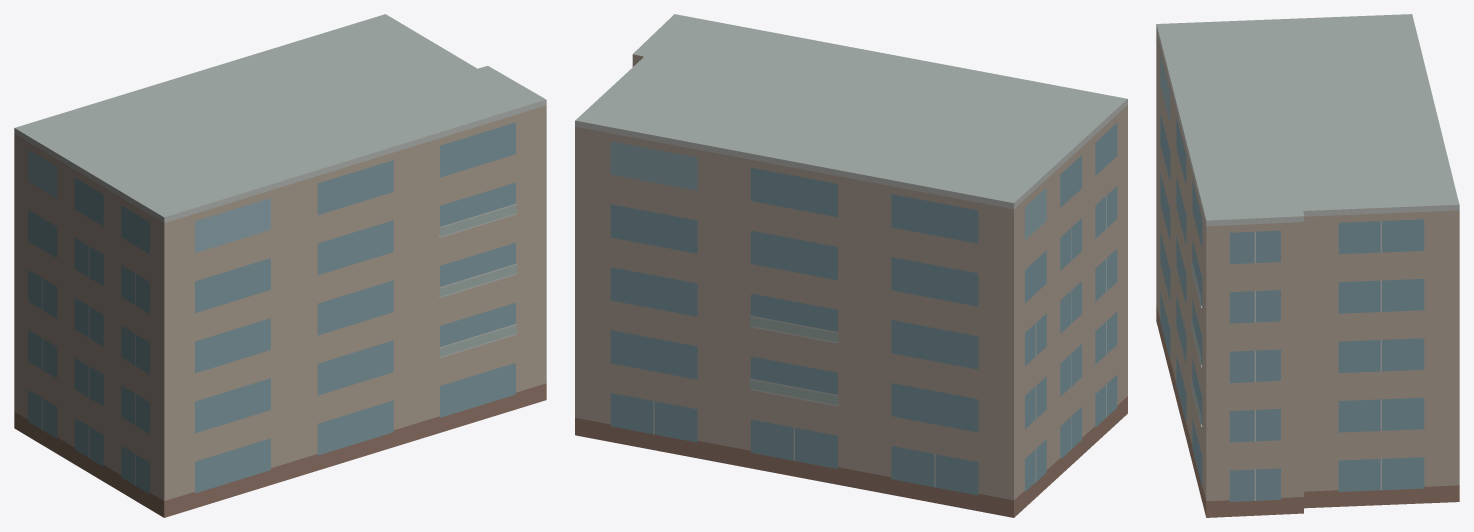
Rendered from survey-upis-33035902.glb.
The picture shows the model from 3 angles, left to right: view 1: azimuth 30°, elevation 25°; view 2: azimuth 150°, elevation 25°; view 3: azimuth 270°, elevation 25°; orthographic projection. The views are drawn at different scales.
Visible parts, largest first — view 1: survey-upis-33035902.tmp; view 2: survey-upis-33035902.tmp; view 3: survey-upis-33035902.tmp.
Boxes of the visible parts, <box> form: survey-upis-33035902.tmp: <box>14,14,546,517</box>; survey-upis-33035902.tmp: <box>575,14,1127,517</box>; survey-upis-33035902.tmp: <box>1156,14,1459,517</box>.
Bounding box in the file's own units: 18.87 × 12.65 × 11.7.
